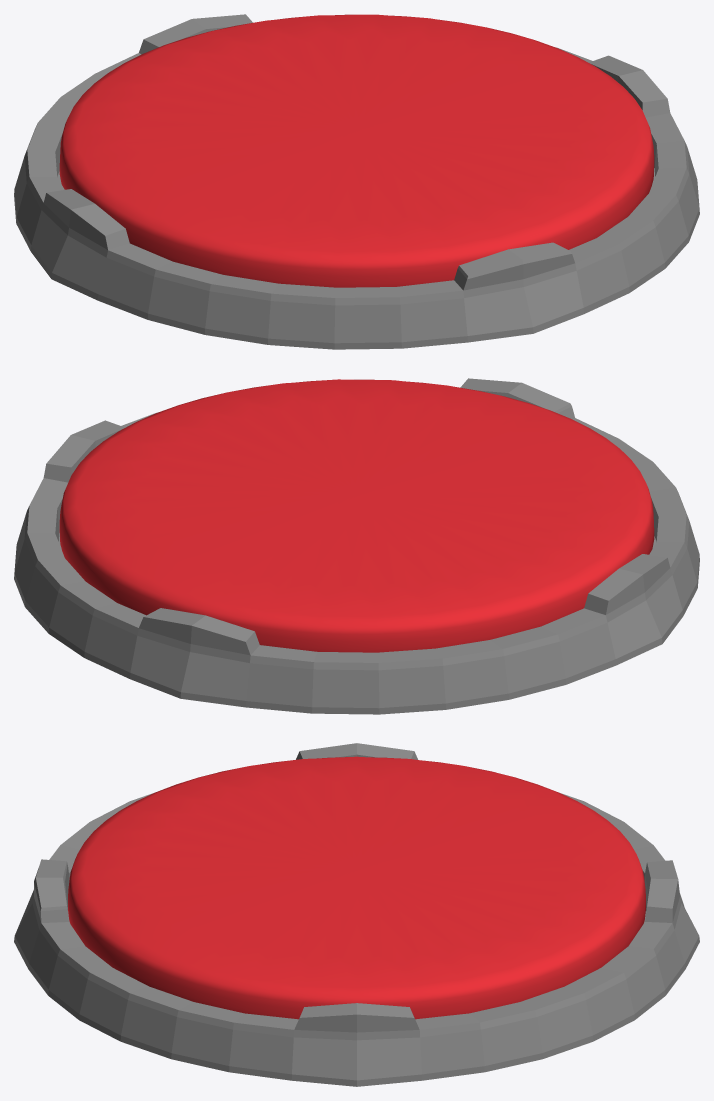
File: padverificador.fbx
3 views of the same model, one above another, from view 1: azimuth 30°, elevation 25°; view 2: azimuth 150°, elevation 25°; view 3: azimuth 270°, elevation 25° (orthographic). The views are drawn at different scales.
Visible parts, largest first — view 1: Cylinder.001, Cylinder; view 2: Cylinder.001, Cylinder; view 3: Cylinder.001, Cylinder.
Part boxes in pixels (box(x1,y1,x2,y2)): Cylinder.001: box(59, 14, 654, 287); Cylinder: box(14, 14, 699, 349); Cylinder.001: box(59, 379, 654, 652); Cylinder: box(14, 378, 699, 714); Cylinder.001: box(68, 756, 645, 1019); Cylinder: box(14, 743, 699, 1086).
Bounding box in the file's own units: 1022 × 129 × 1022.
